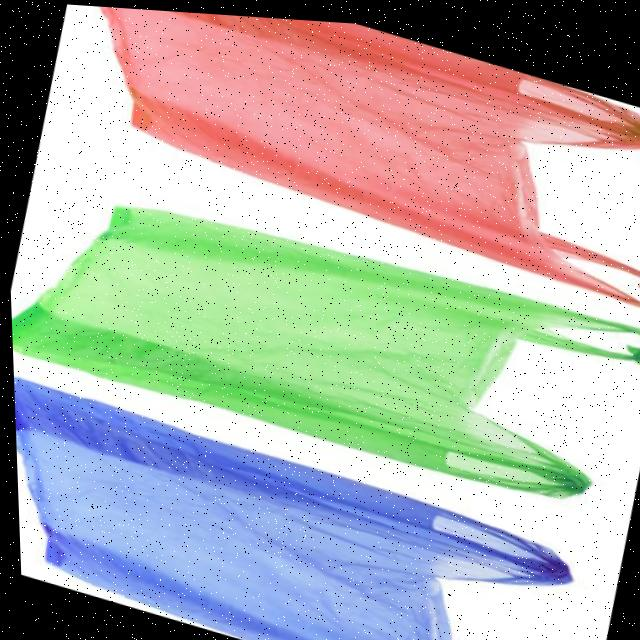plastic_bag: (4, 147, 640, 529), (34, 2, 640, 314), (11, 361, 624, 640)
